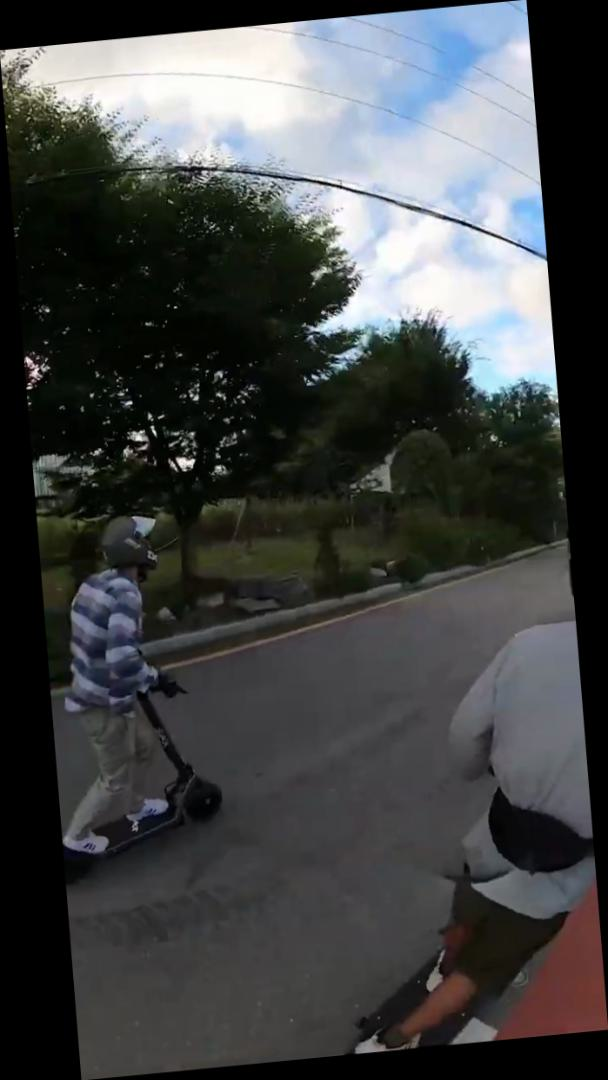helmet: (38, 506, 233, 881)
